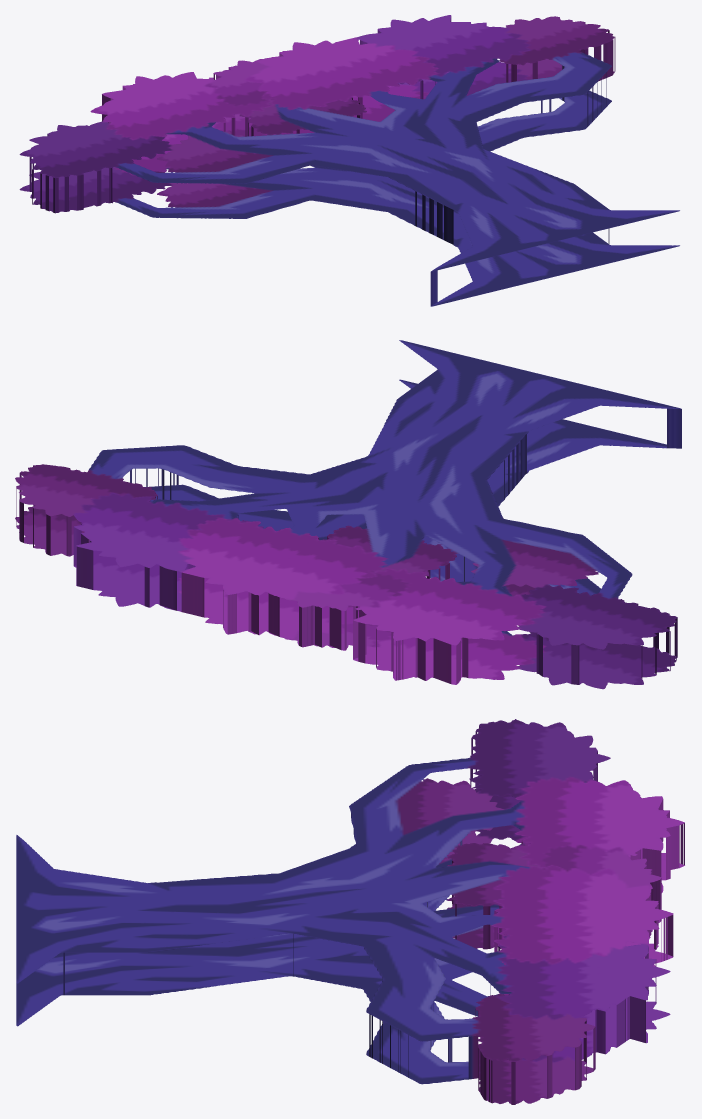
The model's file is tree_b.fbx.
The picture shows the model from 3 angles, top to bottom: view 1: azimuth 30°, elevation 25°; view 2: azimuth 150°, elevation 25°; view 3: azimuth 270°, elevation 25°; orthographic projection. The views are drawn at different scales.
Visible parts, largest first — view 1: Tree_B; view 2: Tree_B; view 3: Tree_B.
Boxes of the visible parts, box(x1,y1,x2,y2) form: Tree_B: box(19, 15, 679, 306); Tree_B: box(15, 340, 681, 689); Tree_B: box(16, 719, 684, 1104).
Size of the model in its own units: 120 by 7 by 100.
